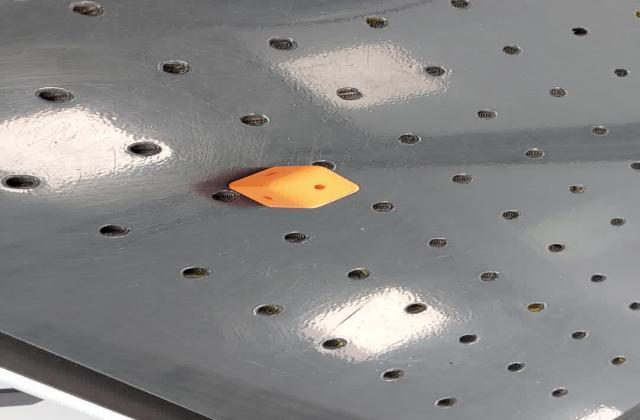cube: (225, 162, 366, 214)
